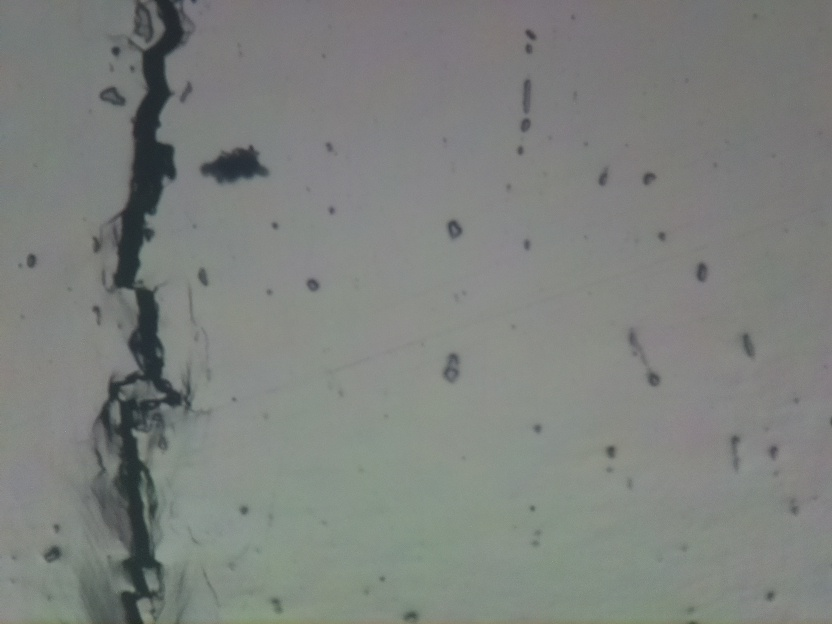crack: (100, 0, 188, 624)
